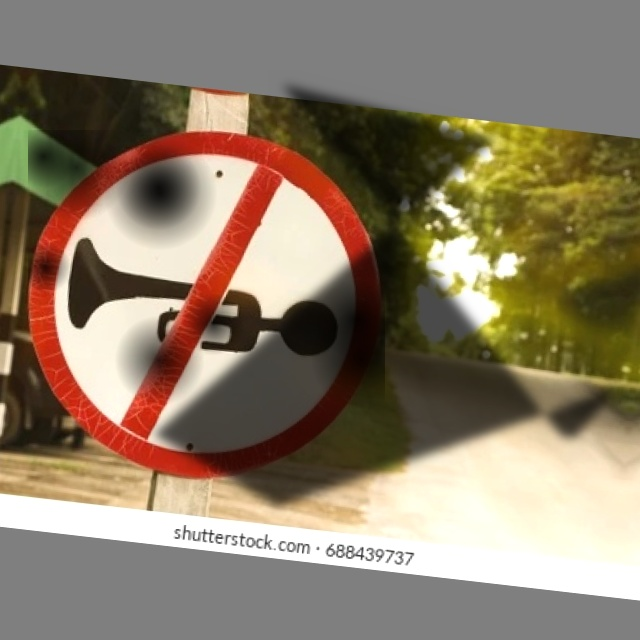Horn_Prohibited: (28, 130, 385, 475)
